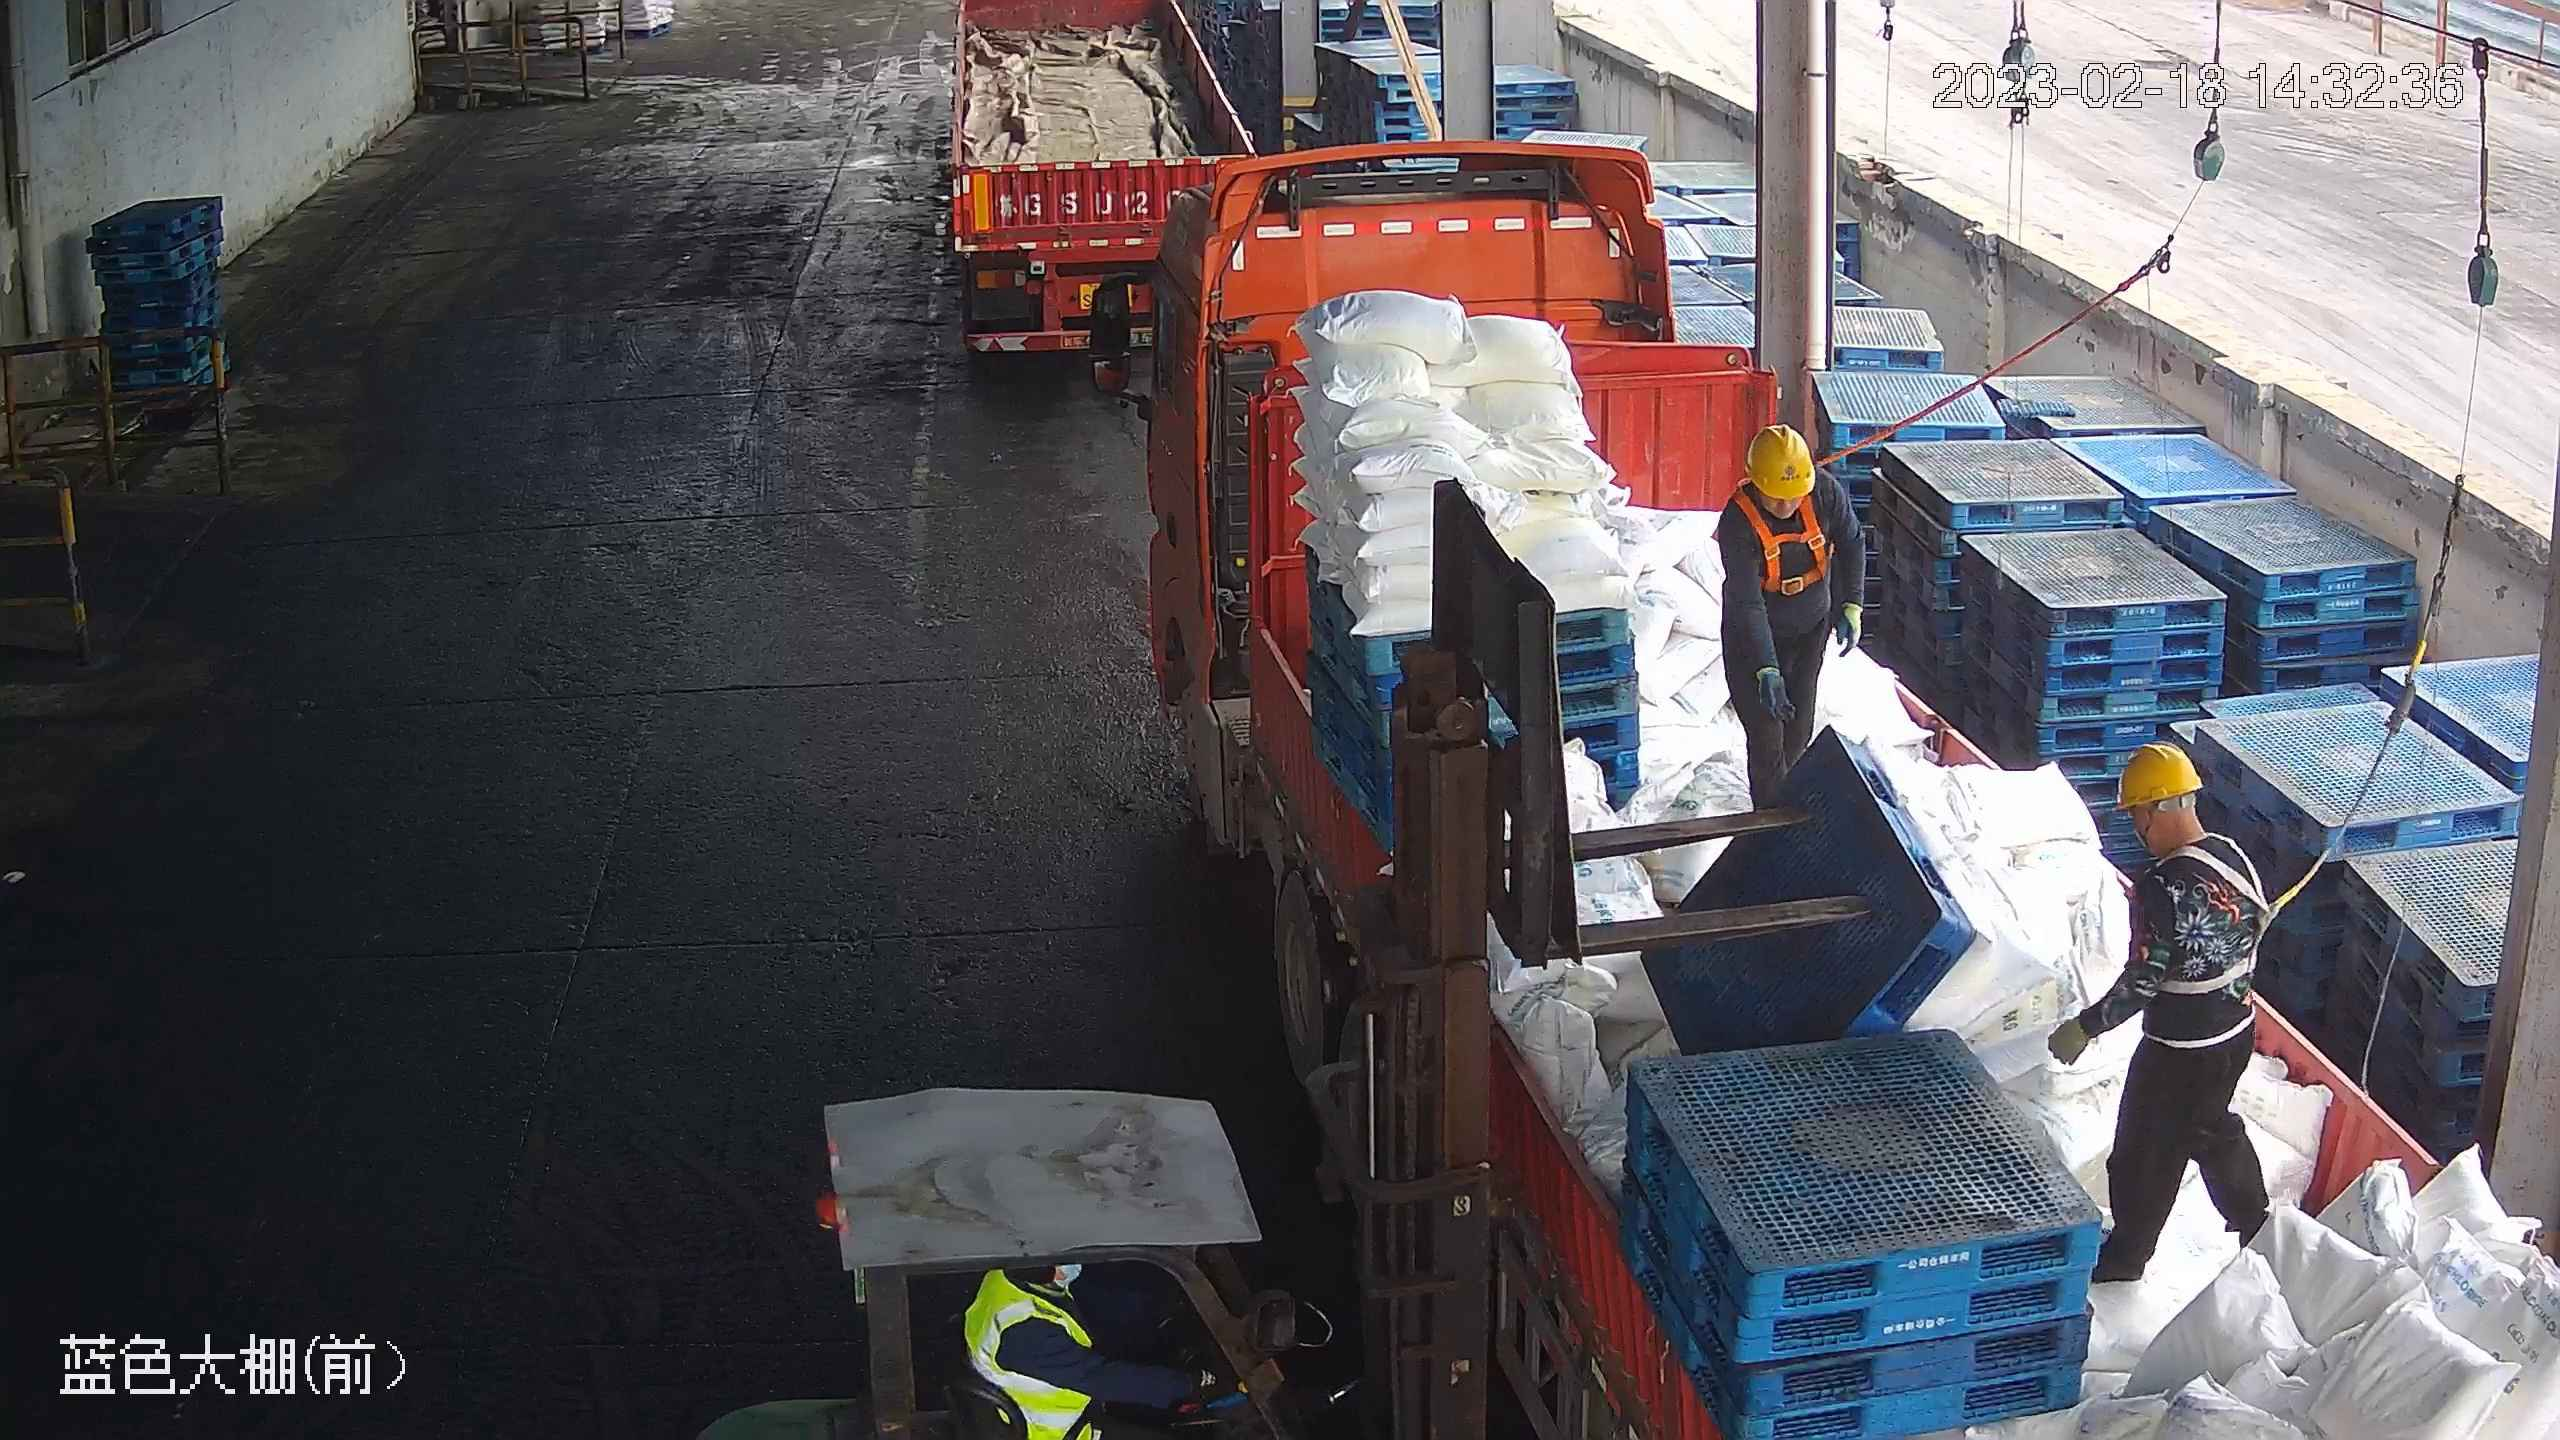belt: (2142, 840, 2281, 1002), (1741, 484, 1832, 592)
head: (2106, 735, 2261, 920), (1715, 421, 1852, 560)
helmet: (2111, 739, 2204, 810), (1744, 422, 1816, 500)
people: (2045, 740, 2276, 1301), (1710, 425, 1866, 816), (966, 1248, 1223, 1440)
truck: (1062, 138, 2560, 1440), (935, 1, 1267, 371)
